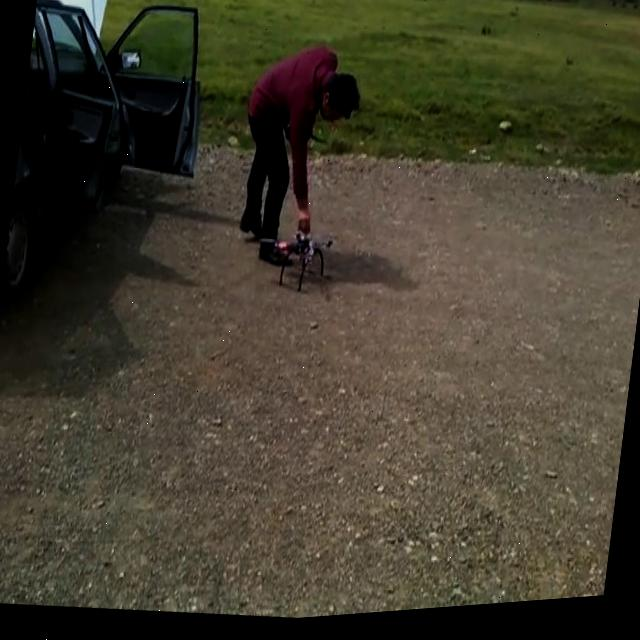drone: (254, 223, 336, 296)
